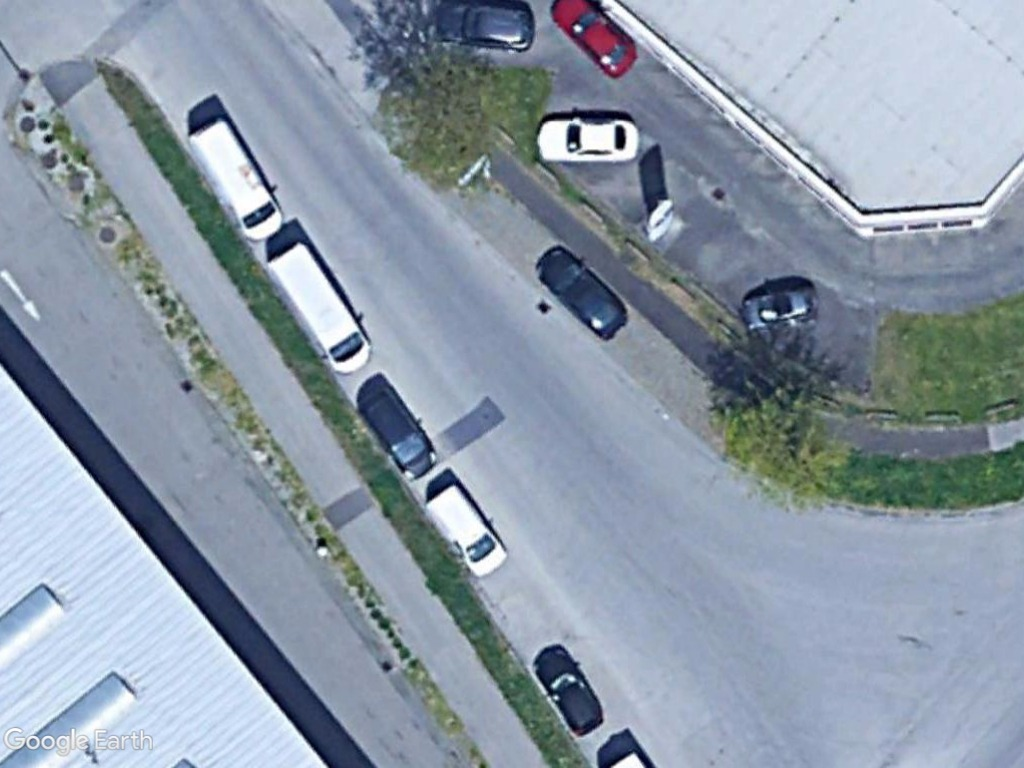car: (417, 478, 513, 584), (536, 248, 631, 344), (358, 379, 438, 481), (544, 0, 638, 80), (532, 643, 608, 740), (531, 116, 640, 167), (738, 283, 823, 336)
van: (263, 232, 373, 379), (176, 117, 290, 244)
